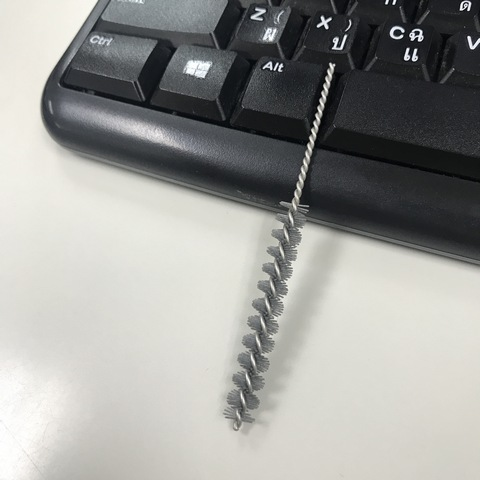Twist Brush-A: (222, 60, 339, 434)
